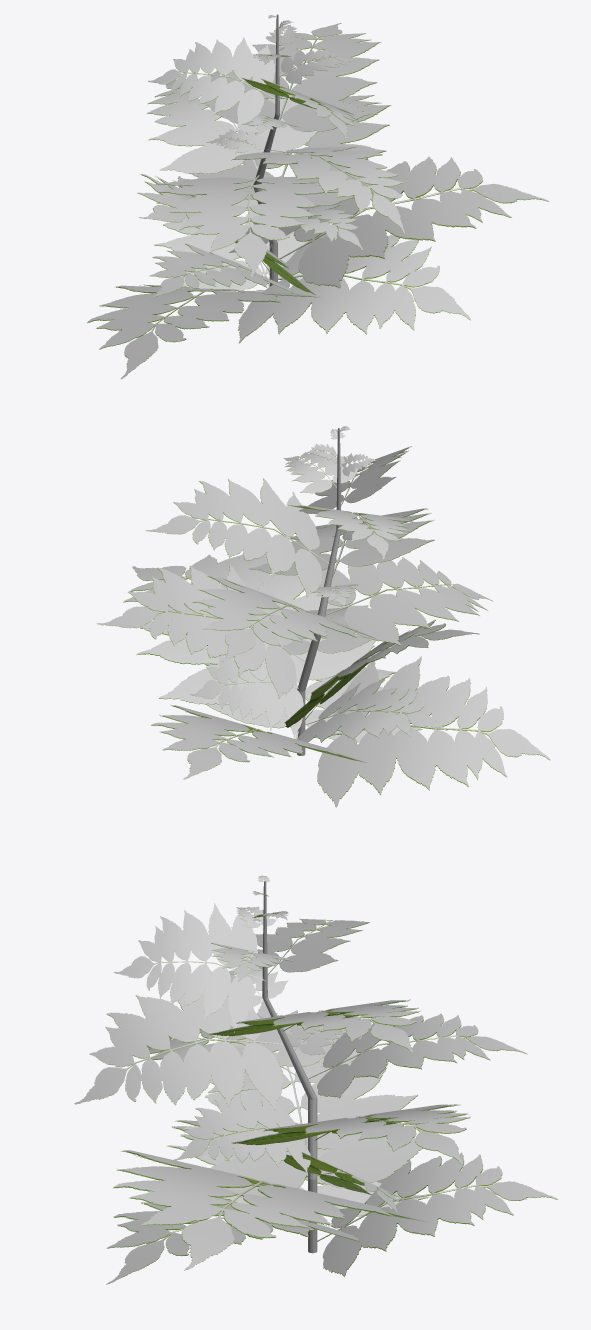
File: bush3 low poly.fbx
3 views of the same model, one above another, from view 1: azimuth 30°, elevation 25°; view 2: azimuth 150°, elevation 25°; view 3: azimuth 270°, elevation 25° (orthographic). The views are drawn at different scales.
Visible parts, largest first — view 1: pPlane8, pPlane9, pPlane14, pPlane6, pPlane11, pPlane13, pPlane23, pPlane12, pPlane10, pPlane7, pPlane4, pPlane5 (+5 smaller); view 2: pPlane6, pPlane11, pPlane8, pPlane10, pPlane14, pPlane13, pPlane4, pPlane7, pPlane26, pPlane12, pPlane5, pPlane23 (+6 smaller); view 3: pPlane12, pPlane8, pPlane4, pPlane5, pPlane24, pPlane13, pPlane10, pPlane25, pPlane11, pPlane9, pPlane23, pPlane14 (+7 smaller).
Part boxes in pixels (x1,y1,x2,y2): pPlane8: (279, 156, 548, 288); pPlane9: (238, 223, 470, 343); pPlane14: (156, 175, 337, 277); pPlane6: (87, 284, 319, 379); pPlane11: (198, 23, 381, 131); pPlane13: (147, 70, 318, 173); pPlane23: (148, 37, 275, 128); pPlane12: (231, 146, 404, 233); pPlane10: (189, 95, 391, 205); pPlane7: (149, 243, 294, 298); pPlane4: (154, 175, 308, 291); pPlane5: (137, 174, 315, 295); pPlane6: (314, 656, 550, 807); pPlane11: (145, 478, 329, 596); pPlane8: (123, 552, 375, 704); pPlane10: (96, 565, 305, 698); pPlane14: (318, 557, 493, 645); pPlane13: (192, 575, 380, 661); pPlane4: (151, 704, 366, 779); pPlane7: (297, 679, 447, 747); pPlane26: (189, 642, 310, 738); pPlane12: (248, 508, 434, 576); pPlane5: (284, 619, 479, 727); pPlane23: (286, 504, 414, 559); pPlane12: (74, 970, 283, 1110); pPlane8: (113, 1150, 426, 1270); pPlane4: (317, 1152, 557, 1276); pPlane5: (183, 1000, 423, 1197); pPlane24: (113, 903, 265, 1032); pPlane13: (308, 1013, 527, 1098); pPlane10: (231, 1104, 470, 1164); pPlane25: (173, 1091, 310, 1172); pPlane11: (207, 999, 420, 1053); pPlane9: (106, 1197, 361, 1284); pPlane23: (255, 918, 369, 974); pPlane14: (146, 1010, 334, 1093).
Bounding box in the file's own units: 10.23 × 6.2 × 8.16.
